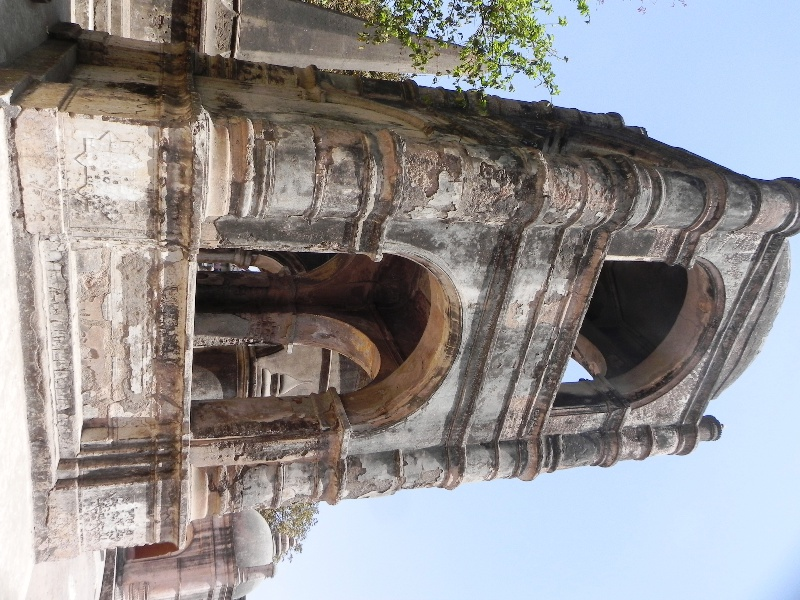Spalling: (403, 140, 461, 196)
